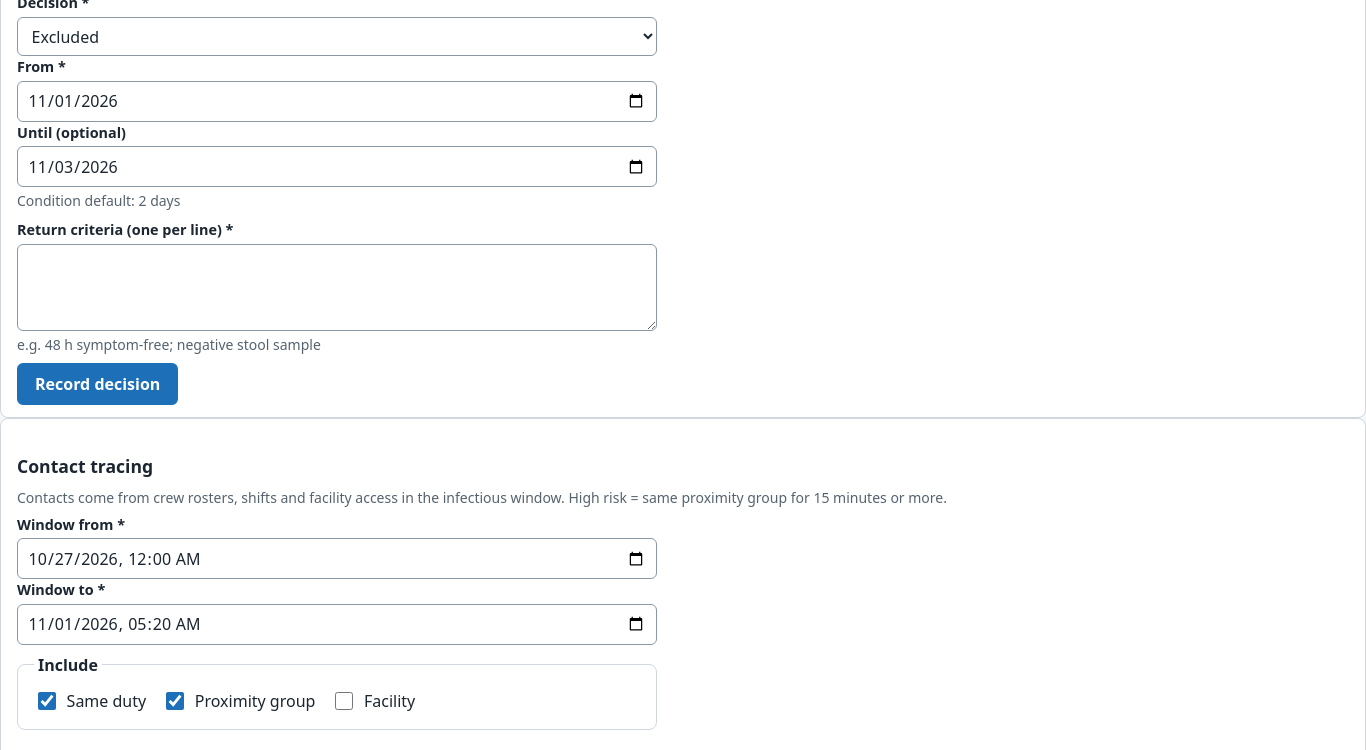
Test: CommunicableCase › exclusion with return criteria, tracing with window + include, risk-sorted contacts, 4 h KPI, notify
Later steps or results of the test are not shown.
(page scrolled)
What coordinates should you click on to do the following:
click the button "Record decision"
I would click on:
 (98, 384)
Its box is [17,363,178,405].
(page scrolled)
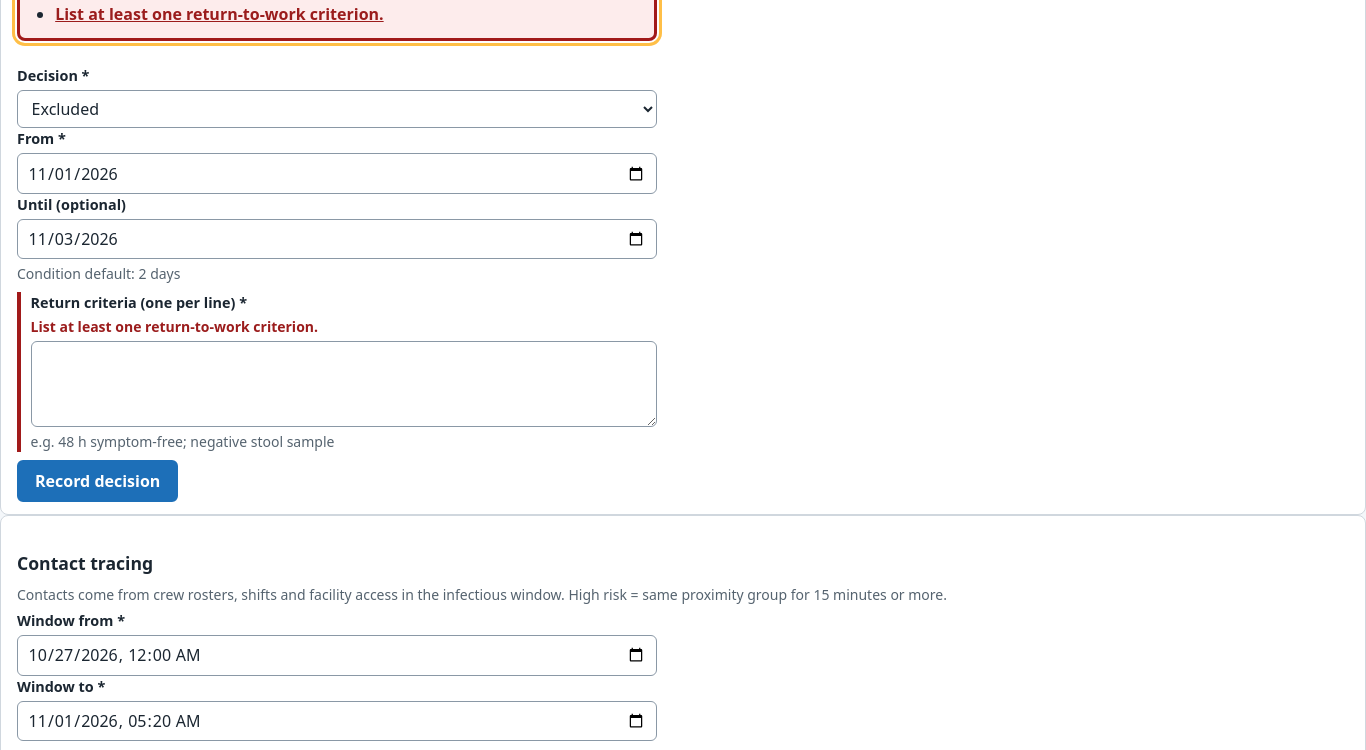
Expected: the link "List at least one return-to-work criterion." is shown, [55,3,384,25]
